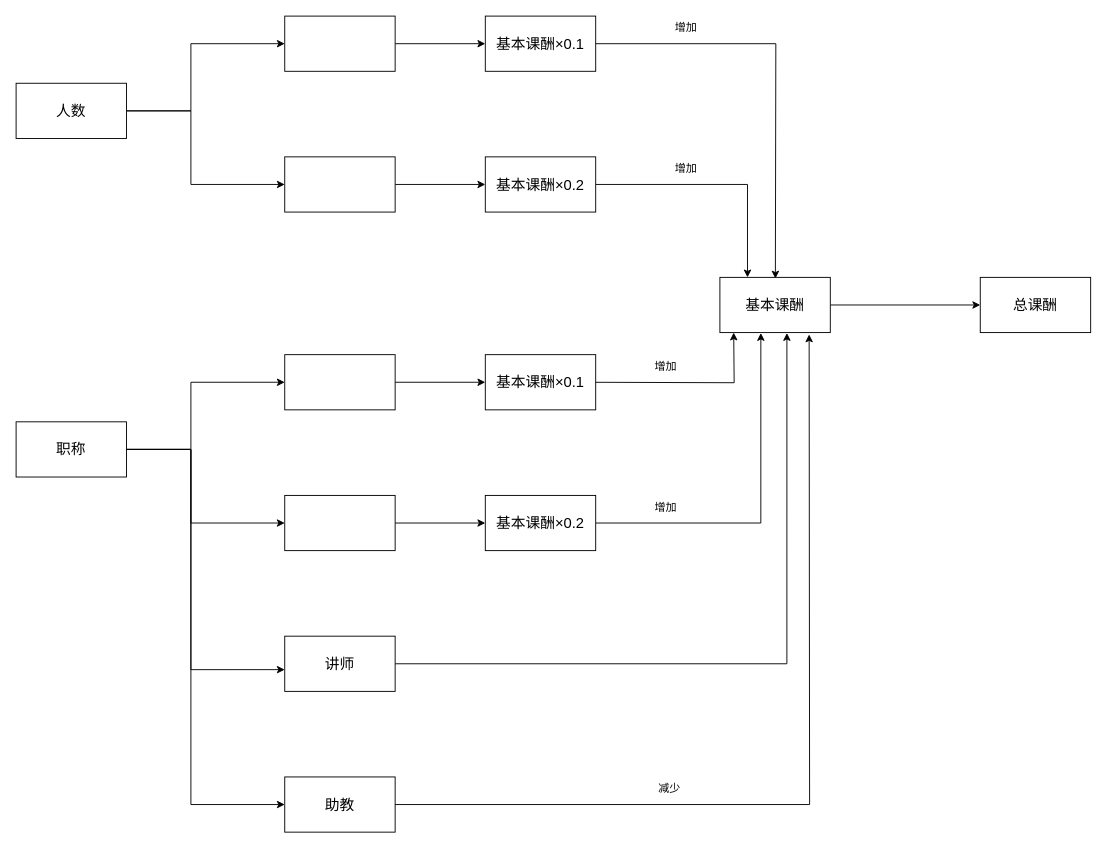
Image size: 1107x848. Some labels were removed from this diagram. The shapes that lost their labels are listed below. From the top down, each one's centre as x and y in pixels, then its label:
the point at 339,43: 大于>40
the point at 339,184: 大于>60
the point at 339,382: 副教授
the point at 339,522: 教授
